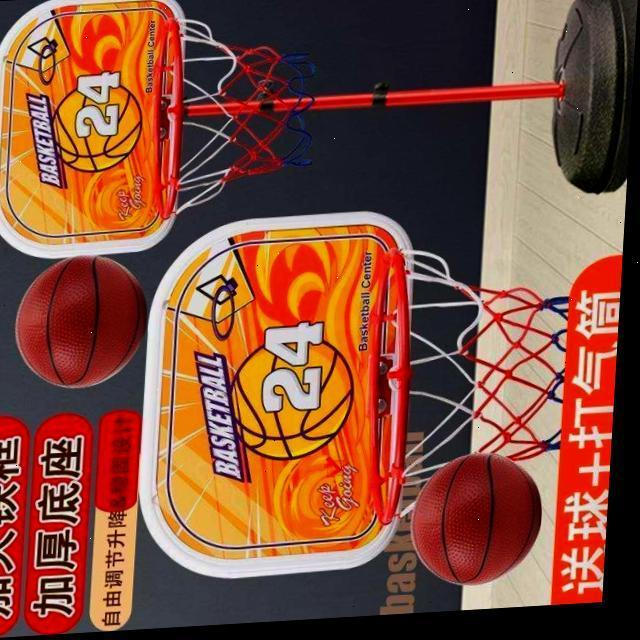Basketball: (413, 451, 547, 585), (15, 254, 147, 386)
